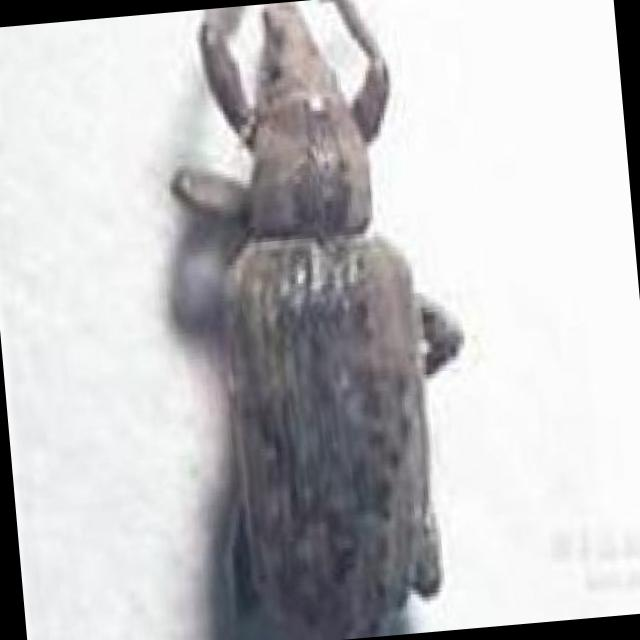rice-bug: (161, 0, 473, 640)
